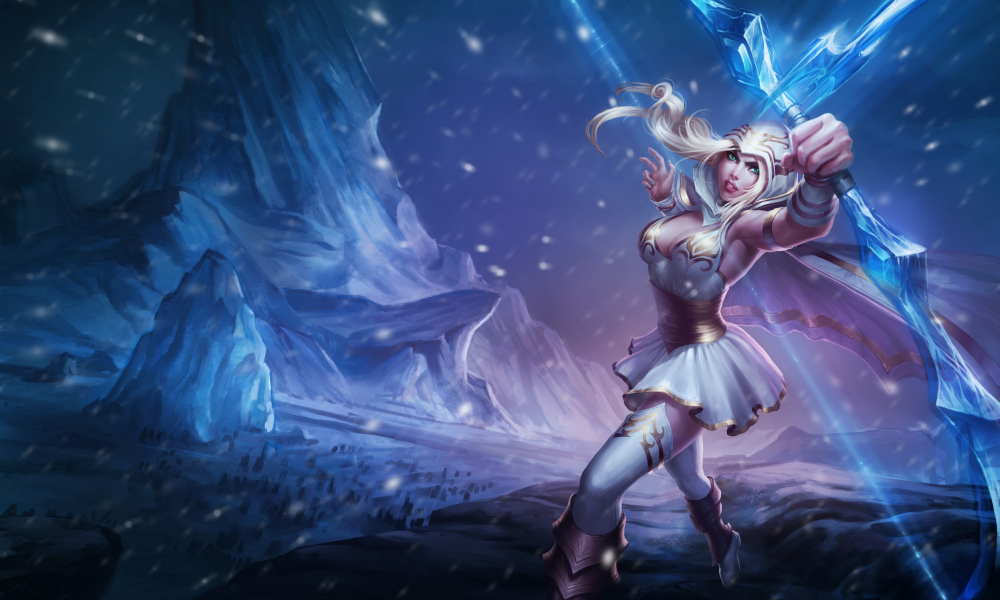face: (682, 94, 818, 228)
